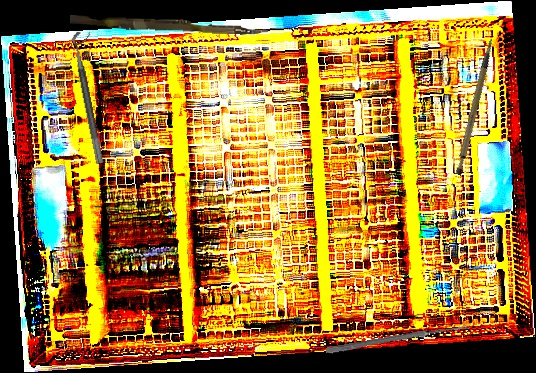Fixation Ring: (69, 29, 116, 165)
Pusher: (69, 14, 269, 36)
Scalpel Handle: (437, 38, 515, 177)
Surgical Spoon: (325, 322, 471, 355)
